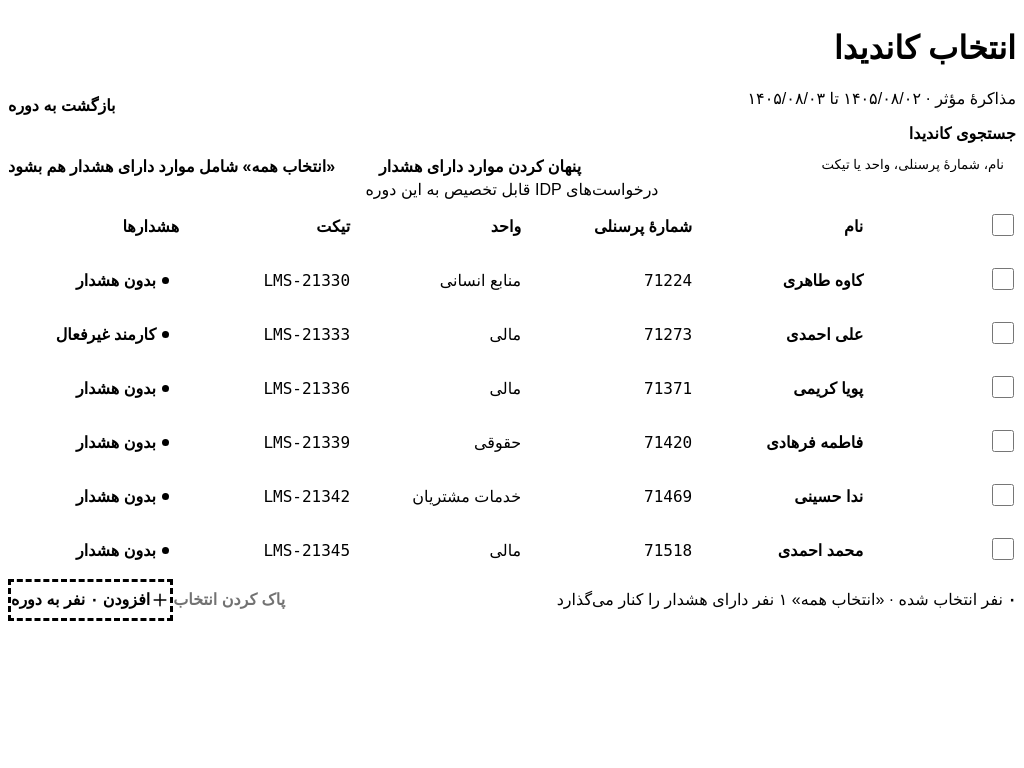
Scenario: candidates picker › shows warning chips, asks for confirmation when flagged people are selected, and assigns via bulk
The width and height of the screenshot is (1024, 768).
Later steps or results of the test are not shown.
expect the text "کارمند غیرفعال" is shown: met, box x1=56 y1=326 x2=156 y2=343
What coordinates should you click on to do the following:
click the checkbox named "انتخاب علی احمدی"
I would click on:
 (1003, 333)
Its box is x1=992 y1=322 x2=1014 y2=344.
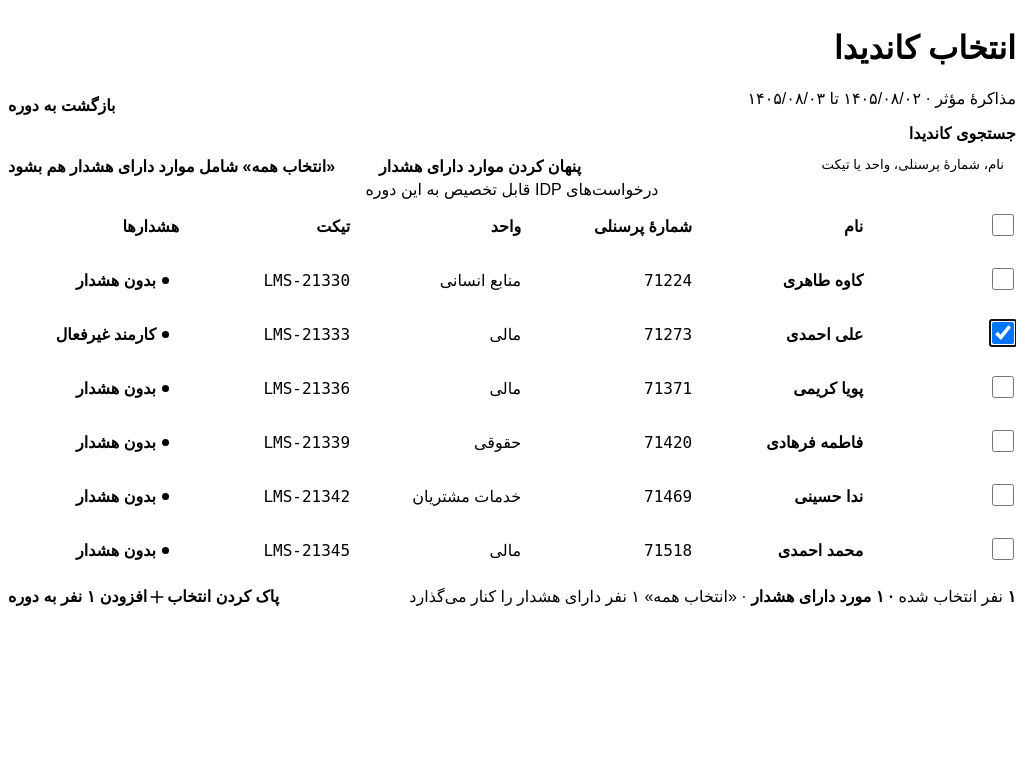
expect the text "· ۱ مورد دارای هشدار" is shown: met, box x1=751 y1=588 x2=898 y2=605
What coordinates should you click on to do the following:
click the button "افزودن ۱ نفر به دوره"
I would click on:
 (88, 597)
Its box is x1=8 y1=579 x2=167 y2=615.
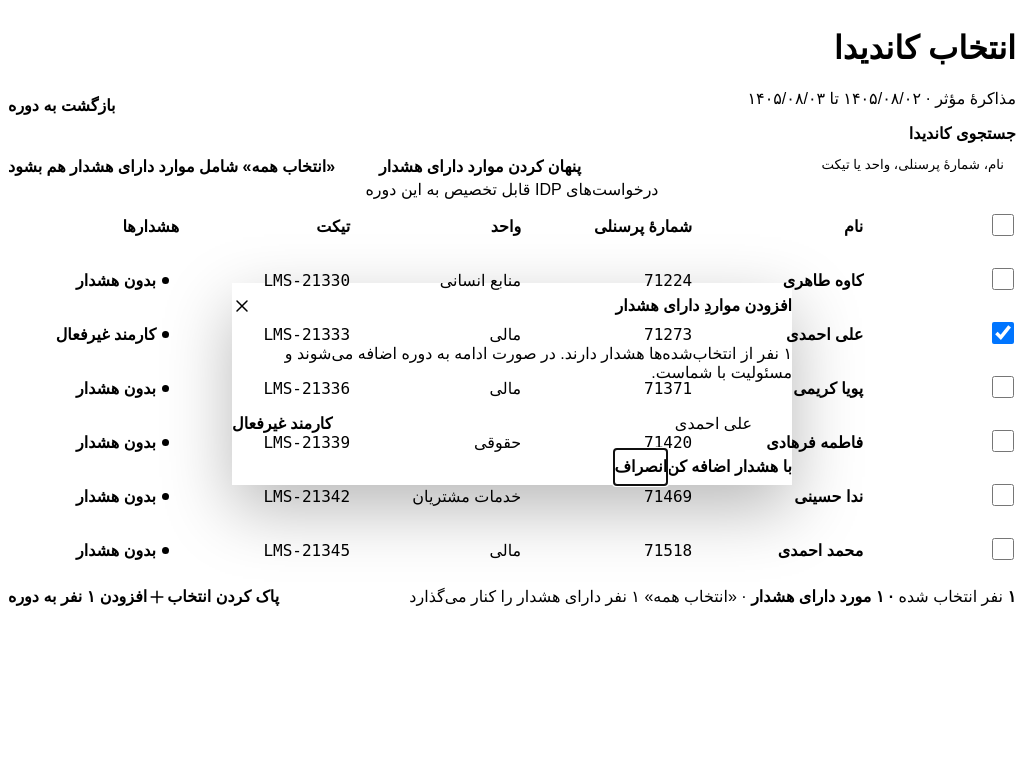
expect the text "هشدار دارند" is shown: met, box x1=285 y1=345 x2=792 y2=381
